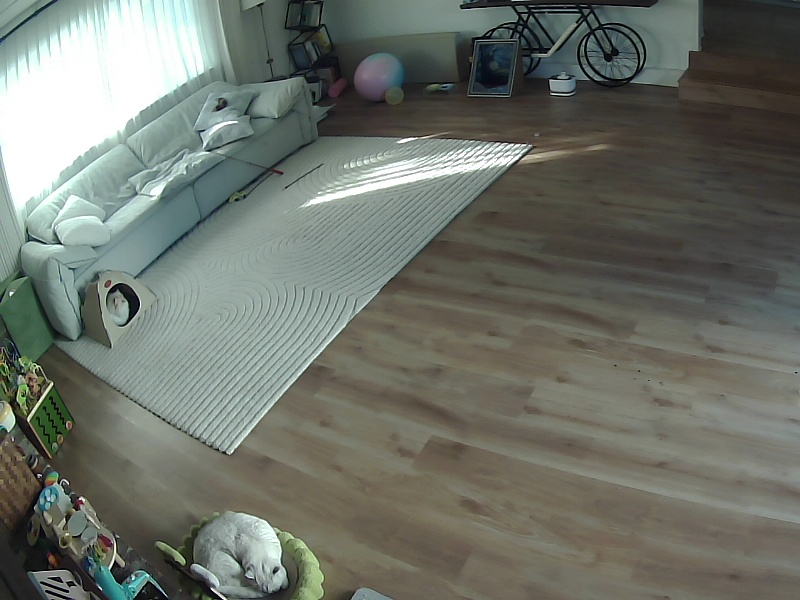Qb-2: (191, 511, 288, 597)
Qbo-2: (106, 289, 129, 325)
